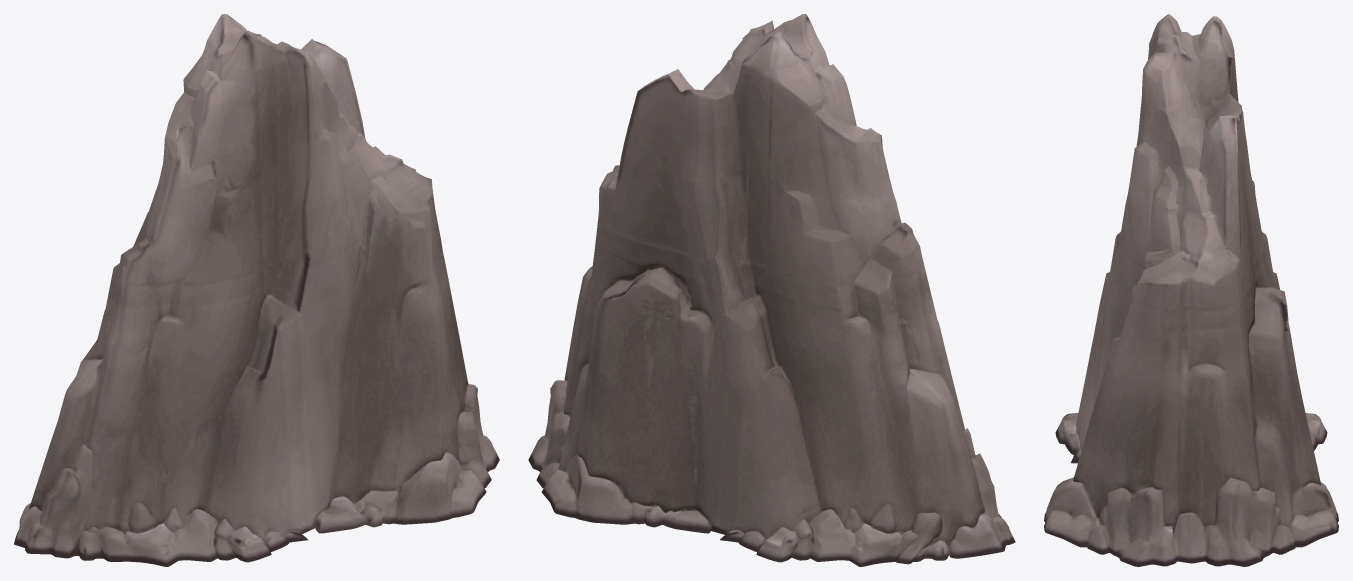
The model's file is SM_Tripo_ZhurongCliffSpire.glb.
3 renders of one model, left to right at view 1: azimuth 30°, elevation 25°; view 2: azimuth 150°, elevation 25°; view 3: azimuth 270°, elevation 25°, orthographic. The views are drawn at different scales.
Visible parts, largest first — view 1: SM_Tripo_ZhurongCliffSpire_LOD0; view 2: SM_Tripo_ZhurongCliffSpire_LOD0; view 3: SM_Tripo_ZhurongCliffSpire_LOD0.
Boxes of the visible parts, box(x1,y1,x2,y2) form: SM_Tripo_ZhurongCliffSpire_LOD0: box(14, 14, 499, 566); SM_Tripo_ZhurongCliffSpire_LOD0: box(528, 14, 1015, 566); SM_Tripo_ZhurongCliffSpire_LOD0: box(1044, 14, 1338, 566).
Bounding box in the file's own units: 40.41 × 40.41 × 24.3.
Materials: 1 (1 with a texture image).
